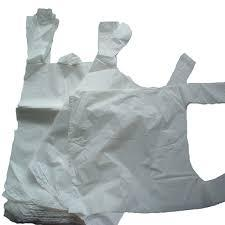Plastic bag: (5, 5, 225, 225)
